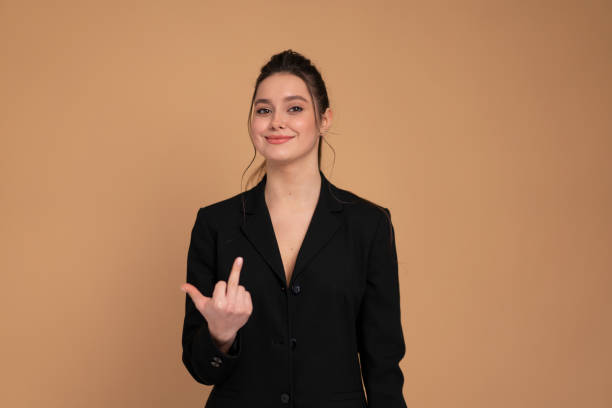insulting_gesture: (180, 255, 254, 344)
